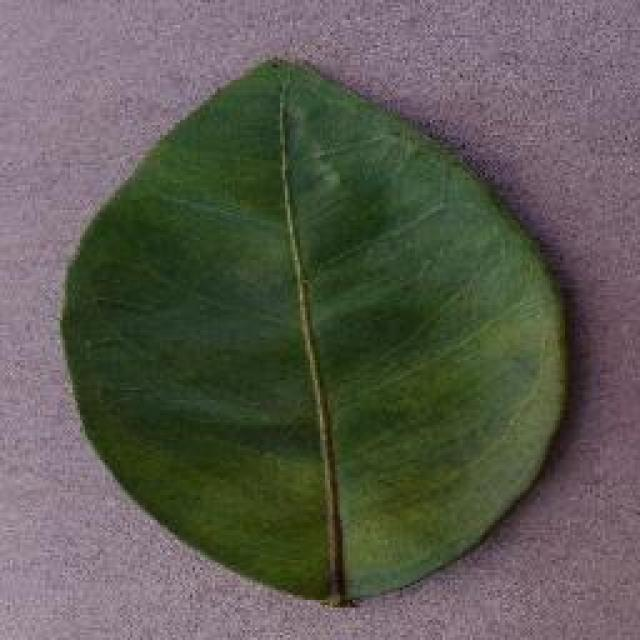Orange_Haunglongbing_Citrus_greening: (107, 128, 534, 524)
